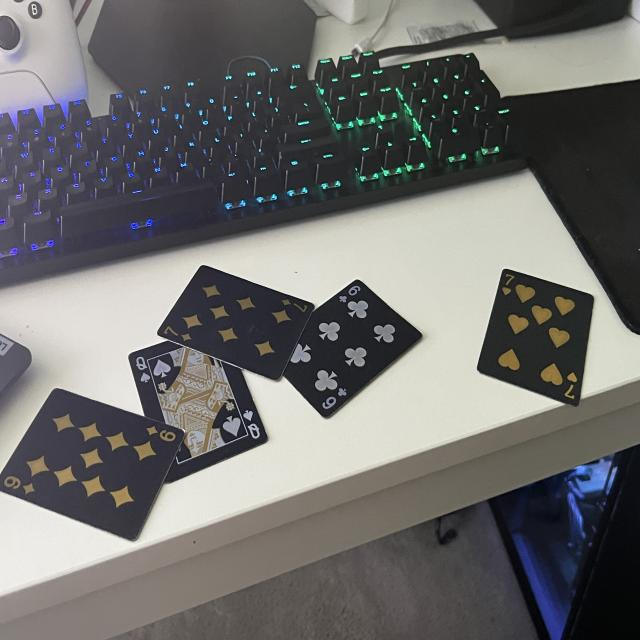6C: (319, 389, 347, 416), (337, 282, 360, 308)
7D: (162, 322, 195, 346), (279, 291, 310, 315)
7H: (564, 368, 578, 402), (499, 270, 514, 296)
9D: (3, 475, 37, 497), (144, 424, 176, 444)
QS: (132, 353, 152, 391), (240, 407, 260, 441)
